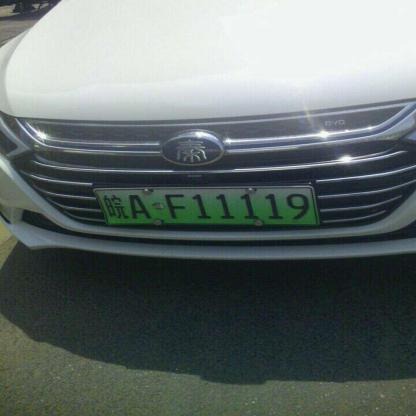lp: (96, 188, 318, 224)
